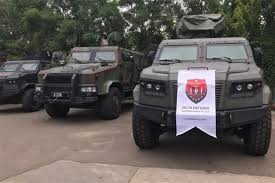army vehicle: (130, 13, 272, 154), (34, 46, 150, 119), (1, 60, 63, 112)
